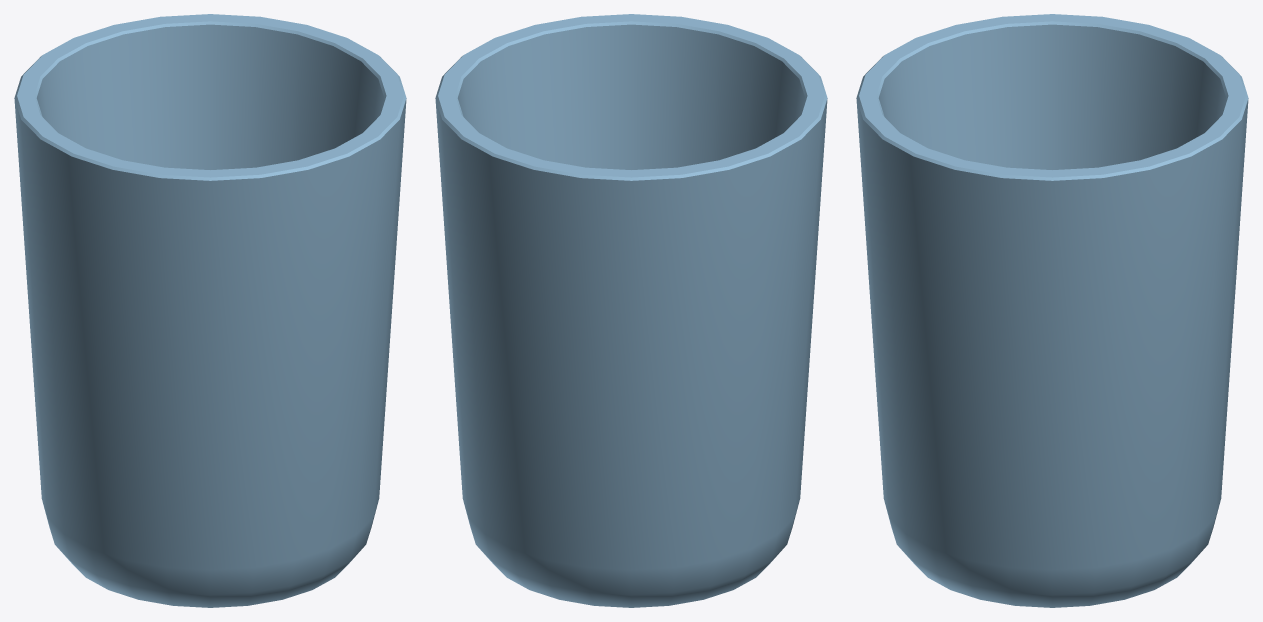
Rendered from stopka_.FBX.
3 renders of one model, left to right at view 1: azimuth 30°, elevation 25°; view 2: azimuth 150°, elevation 25°; view 3: azimuth 270°, elevation 25°, orthographic.
Visible parts, largest first — view 1: stopka_m_; view 2: stopka_m_; view 3: stopka_m_.
Part boxes in pixels (x1,y1,x2,y2): stopka_m_: (14, 14, 406, 607); stopka_m_: (435, 14, 827, 607); stopka_m_: (856, 14, 1248, 607).
Bounding box in the file's own units: 32.68 × 42.2 × 32.68.
